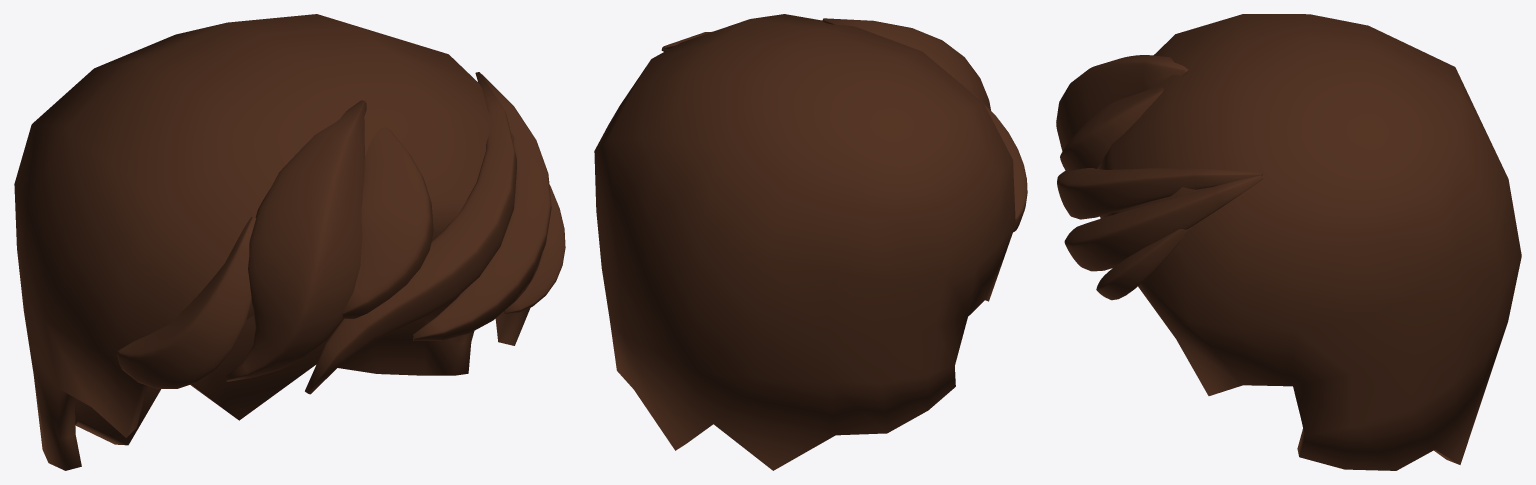
3 renders of one model, left to right at view 1: azimuth 30°, elevation 25°; view 2: azimuth 150°, elevation 25°; view 3: azimuth 270°, elevation 25°, orthographic. The views are drawn at different scales.
Visible parts, largest first — view 1: hairShortSideFringe; view 2: hairShortSideFringe; view 3: hairShortSideFringe.
Boxes of the visible parts, x1,y1,x2,y2 form: hairShortSideFringe: (14,14,565,470); hairShortSideFringe: (594,14,1027,470); hairShortSideFringe: (1056,14,1521,470).
Bounding box in the file's own units: 0.4964 × 0.4803 × 0.5055.
1 material, 1 textured.
